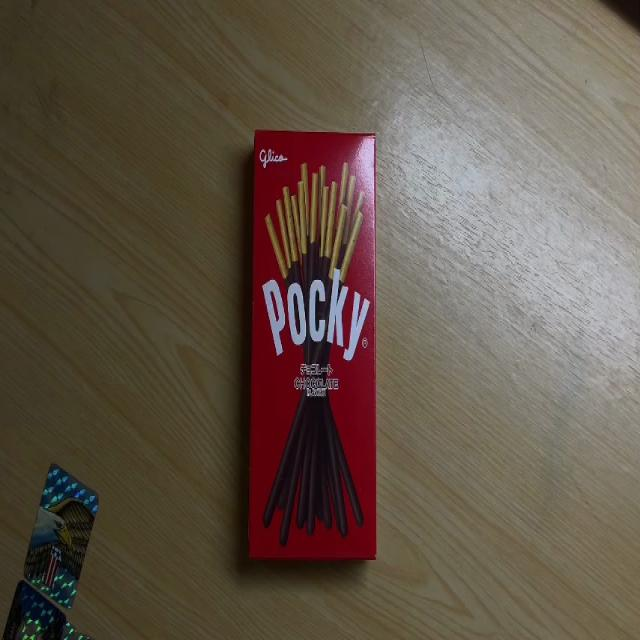Pocky: (252, 128, 378, 560)
